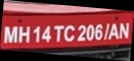character: (3, 25, 17, 43), (18, 26, 30, 43), (52, 25, 64, 42), (63, 25, 75, 42), (107, 23, 119, 40), (41, 25, 51, 42), (76, 24, 86, 41), (119, 22, 128, 39), (94, 23, 102, 40), (32, 25, 39, 43), (86, 25, 94, 40)
